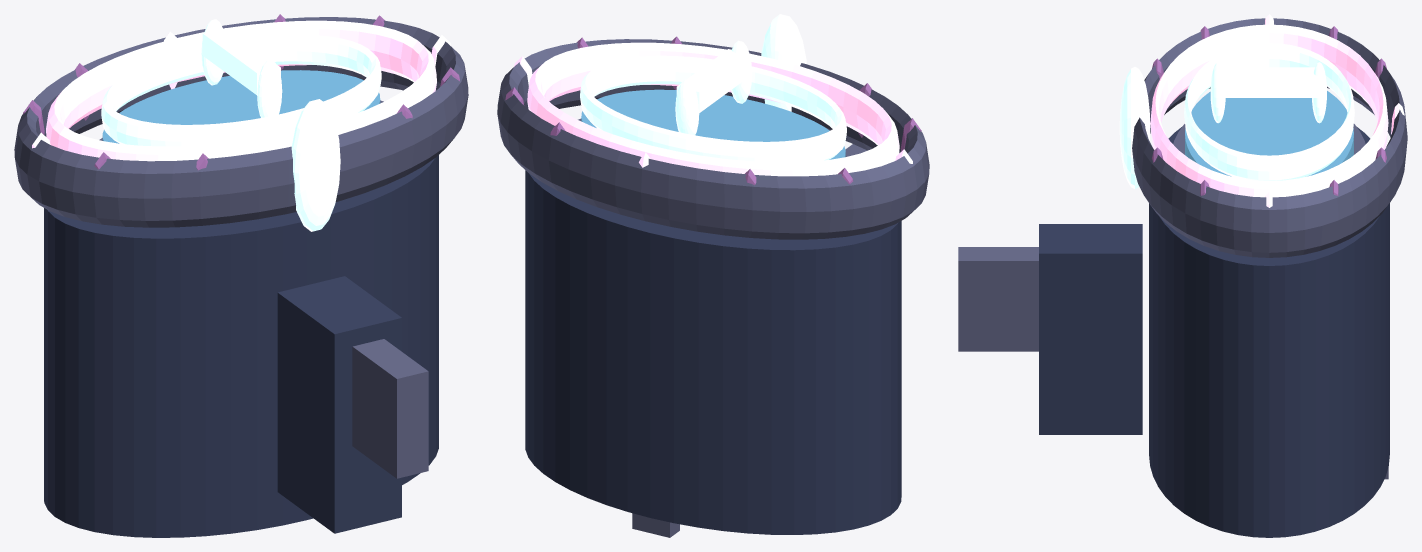
File: ObservatorySpotlight_v09.glb
3 views of the same model, side by side, from view 1: azimuth 30°, elevation 25°; view 2: azimuth 150°, elevation 25°; view 3: azimuth 270°, elevation 25° (orthographic). The views are drawn at different scales.
Parts seen in each view (by area): view 1: ObservatorySpotlight; view 2: ObservatorySpotlight; view 3: ObservatorySpotlight.
Part boxes in pixels (x1,y1,x2,y2): ObservatorySpotlight: [14, 14, 468, 537]; ObservatorySpotlight: [497, 14, 929, 537]; ObservatorySpotlight: [958, 14, 1407, 537].
Size of the model in its own units: 1 by 1 by 1.
